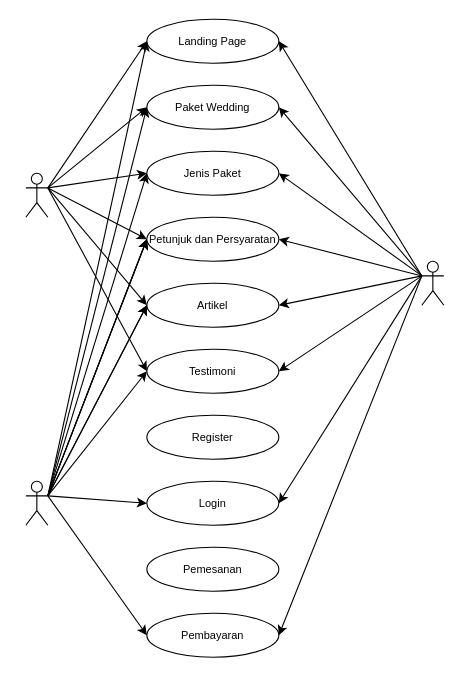
Image size: 471x677. Some labels were removed from this diagram. The centre of each missing label's shape, as x and y in pixels:
Admin: pixel 432 282
User: pixel 36 502
Visitor: pixel 36 194
